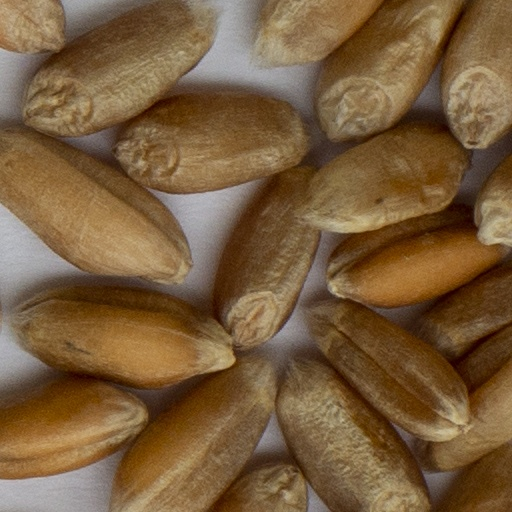Wheat-grain-poly: (0, 124, 196, 284), (22, 0, 222, 135), (309, 0, 462, 144), (113, 84, 312, 194), (291, 125, 474, 237), (436, 0, 511, 149), (249, 0, 385, 71), (0, 0, 68, 58), (471, 148, 511, 246)
